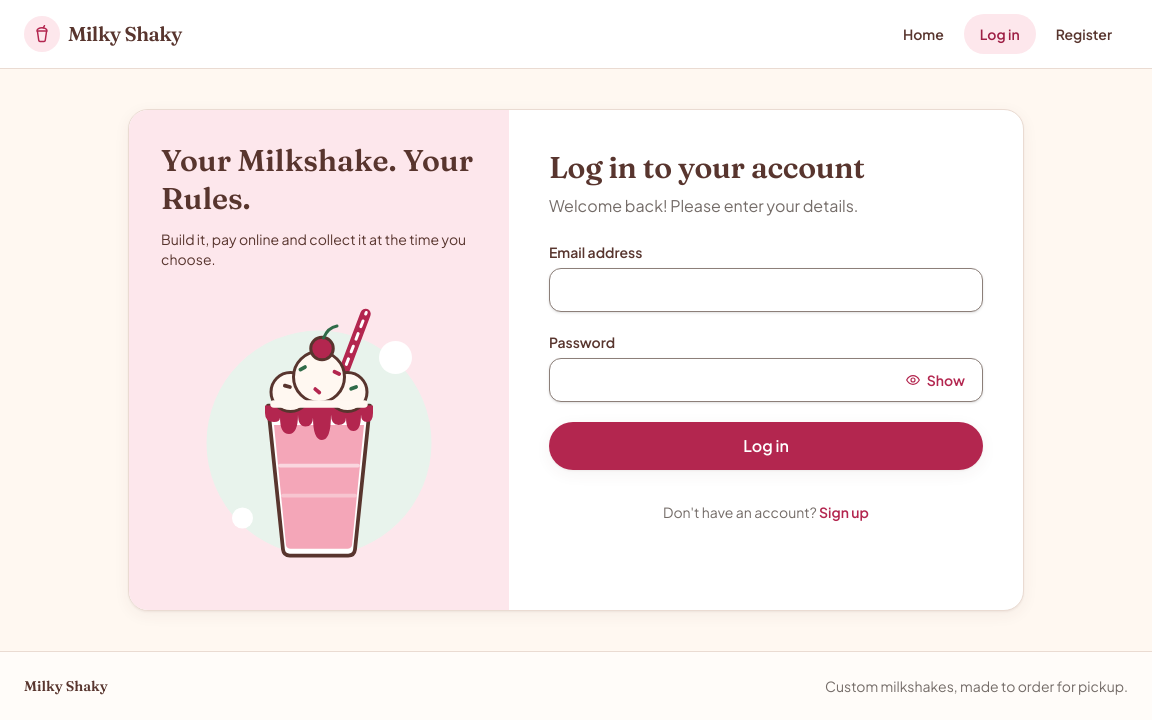
Test: login › shows the server's message when sign-in fails
Expected: the heading "Log in to your account" is shown, [549,149,865,186]
Type "thandi@example.test" into the field labelled "Email address" at (766, 290), box [549,268,983,312]
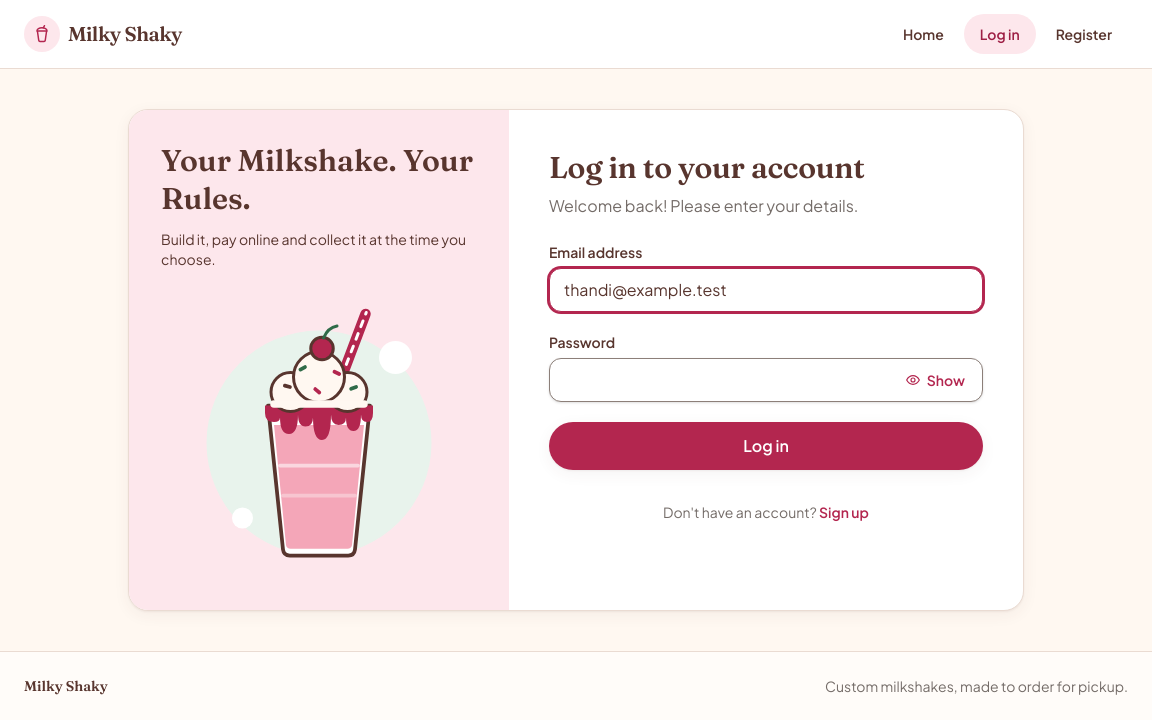
Type "Wrong1Password" into the password field labelled "Password" at (766, 380), box [549,358,983,402]
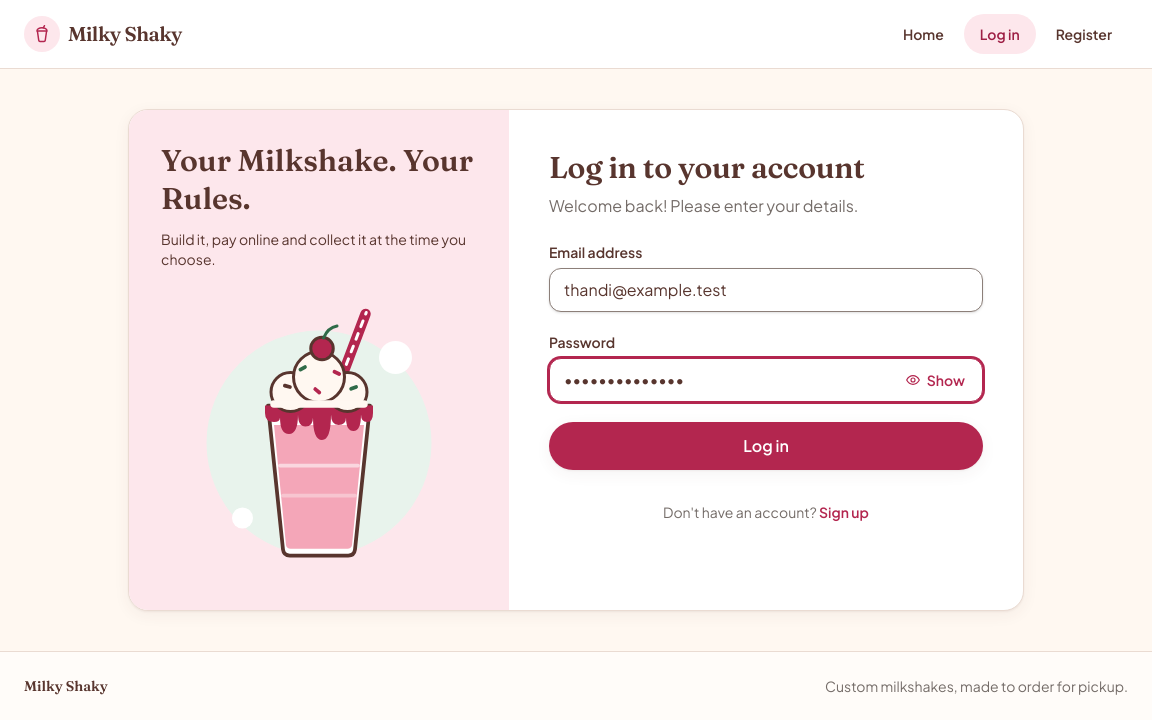
Click the button "Log in" at (766, 446), box [549,422,983,470]
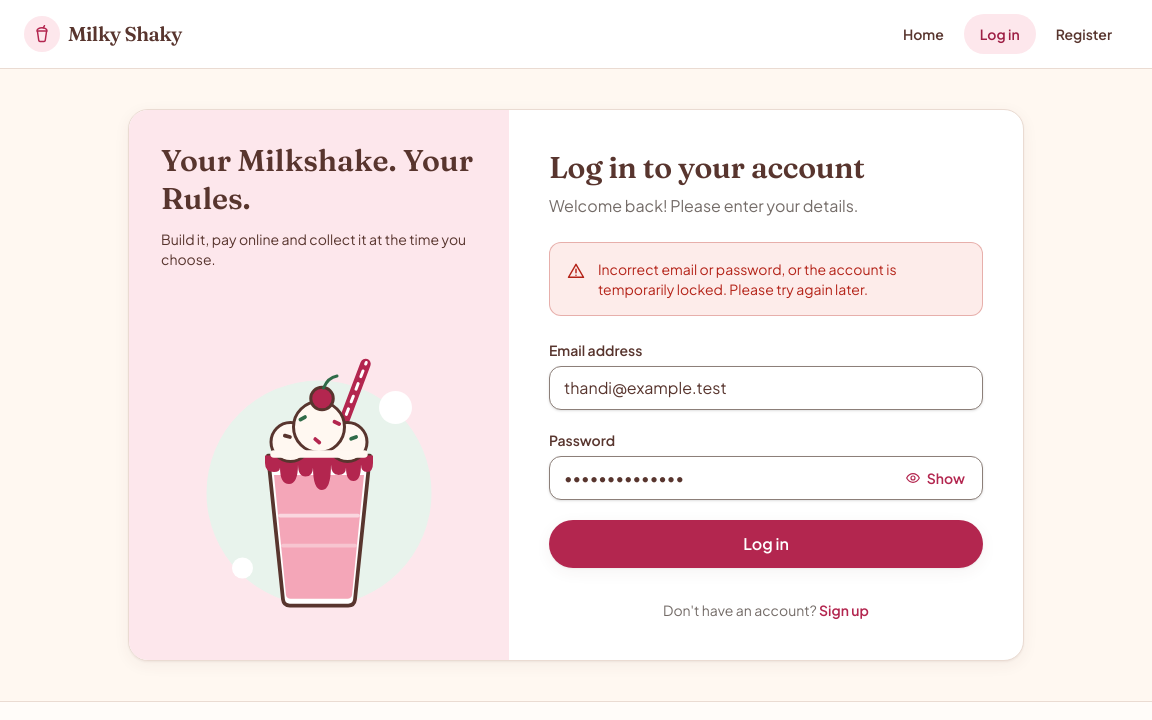
Expected: the message shows "Incorrect email or password, or the account is temporarily locked. Please try again later.", [598,260,896,298]
